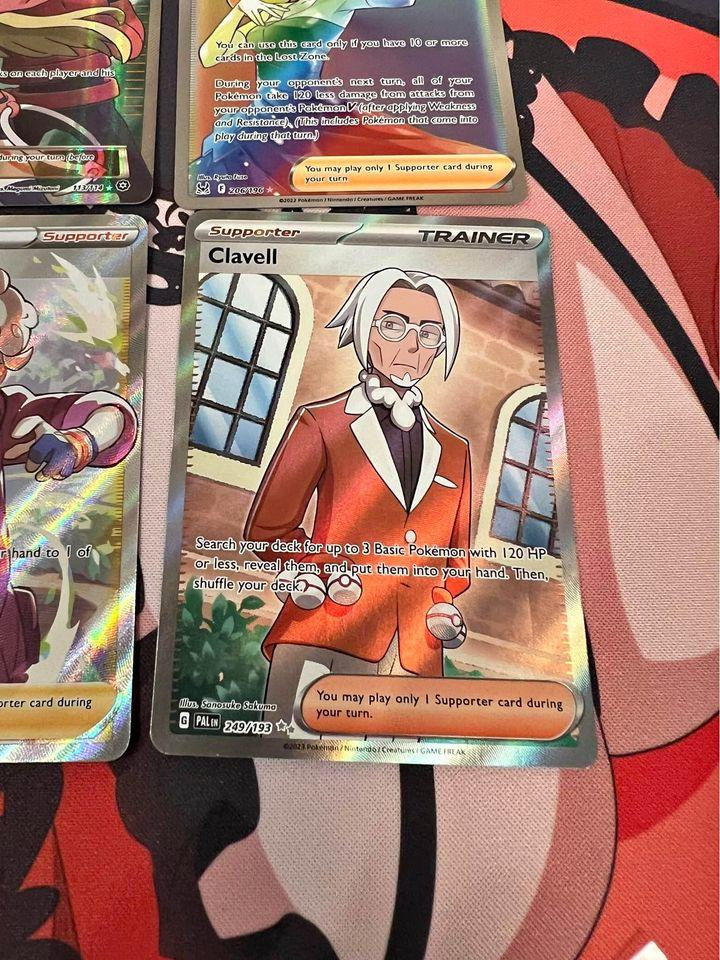card: (148, 208, 603, 769), (0, 213, 151, 765), (174, 0, 533, 210)
name: (204, 242, 293, 272)
set num: (221, 716, 275, 738), (227, 185, 266, 195), (70, 182, 105, 193)
set symbol: (193, 712, 224, 732), (194, 181, 214, 196), (113, 179, 131, 192)
